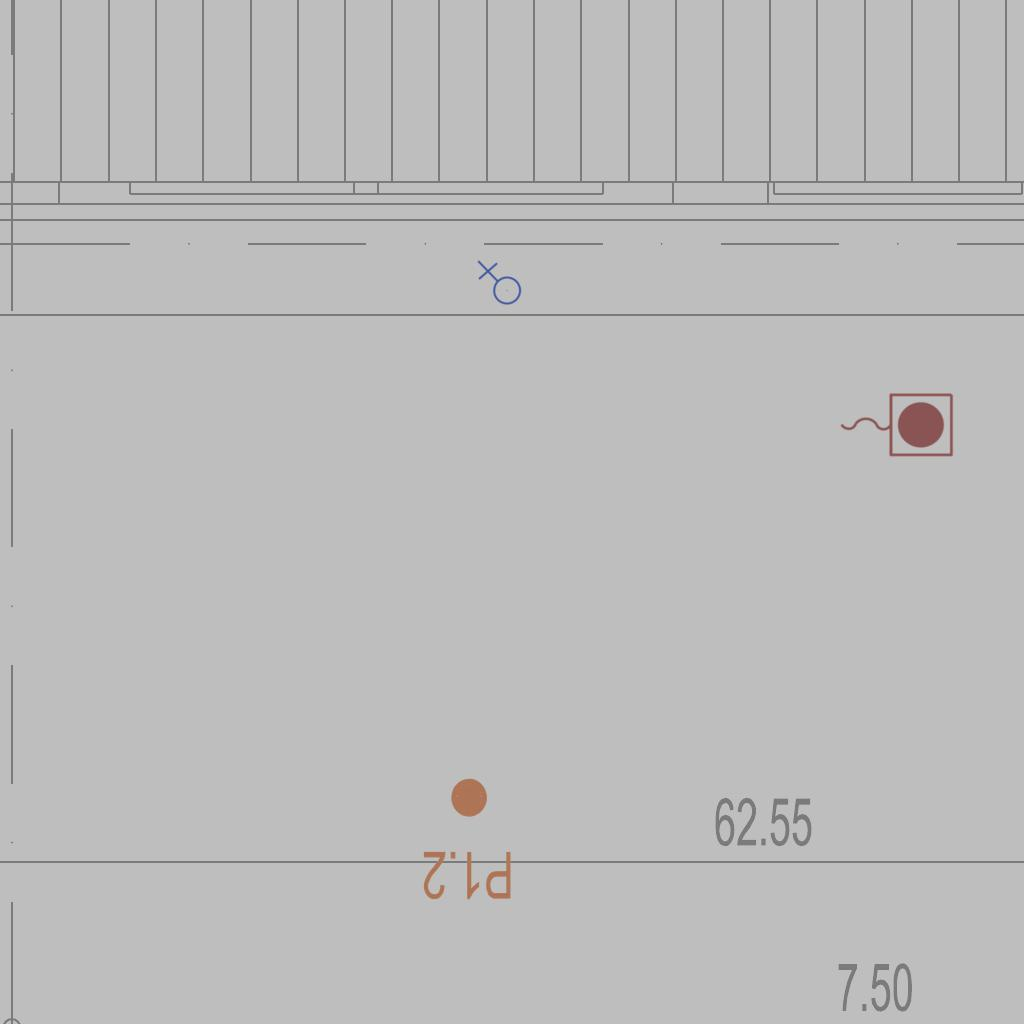Downlight_LED_Einbauleuchten_Flur: (421, 775, 514, 903)
Elektroanschluss_allgemein_230V_Geraeteanschlussdose_230V: (475, 260, 522, 309)
Zugtaster: (835, 388, 957, 460)
